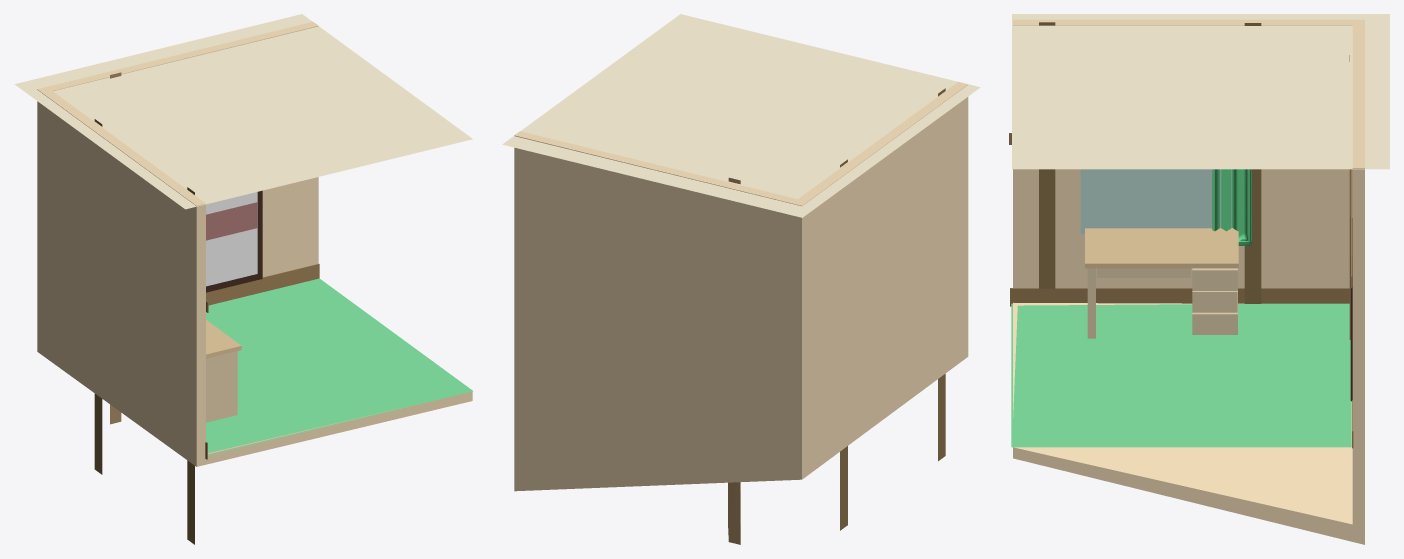
The model's file is heya_new.glb.
3 renders of one model, left to right at view 1: azimuth 30°, elevation 25°; view 2: azimuth 150°, elevation 25°; view 3: azimuth 270°, elevation 25°, orthographic. The views are drawn at different scales.
Parts seen in each view (by area): view 1: room, 平面.016, floor, 平面.012, 立方体.001, 平面.007, 平面.014, 平面.013, 立方体.002, 平面, 平面.001; view 2: room, 平面.016, 平面.009, 平面.001, 平面; view 3: 平面.016, floor, room, 立方体.006, 立方体.002, 平面.002, カーテン, 平面.001, 平面, 立方体.004, 立方体.003, 立方体.007 (+3 smaller).
Boxes of the visible parts, <box> form: room: <box>37,22,472,466</box>; 平面.016: <box>14,14,472,209</box>; floor: <box>206,278,473,455</box>; 平面.012: <box>206,192,257,286</box>; 立方体.001: <box>206,351,237,422</box>; 平面.007: <box>206,264,319,305</box>; 平面.014: <box>206,202,257,240</box>; 平面.013: <box>206,190,262,292</box>; 立方体.002: <box>206,320,241,358</box>; 平面: <box>94,119,102,474</box>; 平面.001: <box>187,187,194,544</box>; room: <box>514,82,968,491</box>; 平面.016: <box>502,14,980,217</box>; 平面.009: <box>728,177,740,544</box>; 平面.001: <box>938,88,945,461</box>; 平面: <box>840,159,847,530</box>; 平面.016: <box>1012,14,1389,169</box>; floor: <box>1011,303,1351,447</box>; room: <box>1013,19,1364,544</box>; 立方体.006: <box>1080,169,1231,233</box>; 立方体.002: <box>1085,228,1238,268</box>; 平面.002: <box>1010,288,1349,306</box>; カーテン: <box>1212,169,1251,245</box>; 平面.001: <box>1039,22,1055,288</box>; 平面: <box>1244,23,1261,303</box>; 立方体.004: <box>1192,291,1237,334</box>; 立方体.003: <box>1192,268,1237,290</box>; 立方体.007: <box>1192,291,1237,312</box>.
Bounding box in the file's own units: 2.12 × 2.49 × 2.2.
